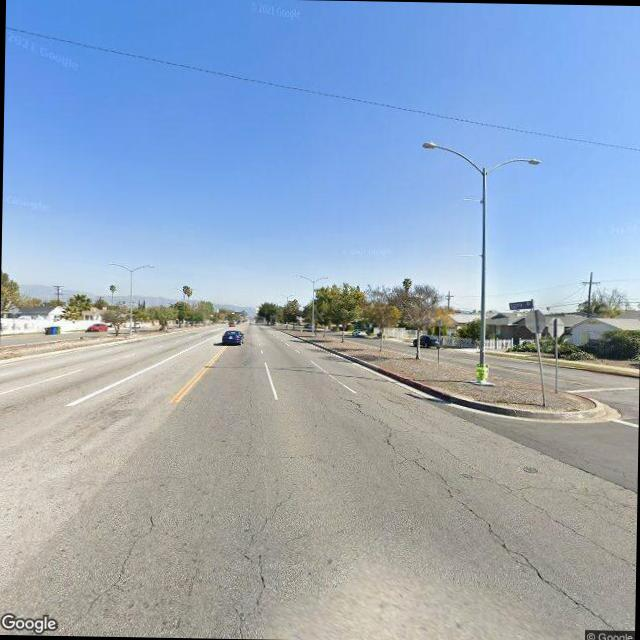crack: (332, 398, 634, 624)
pothole: (74, 503, 164, 622), (232, 484, 294, 628), (239, 381, 259, 458)
